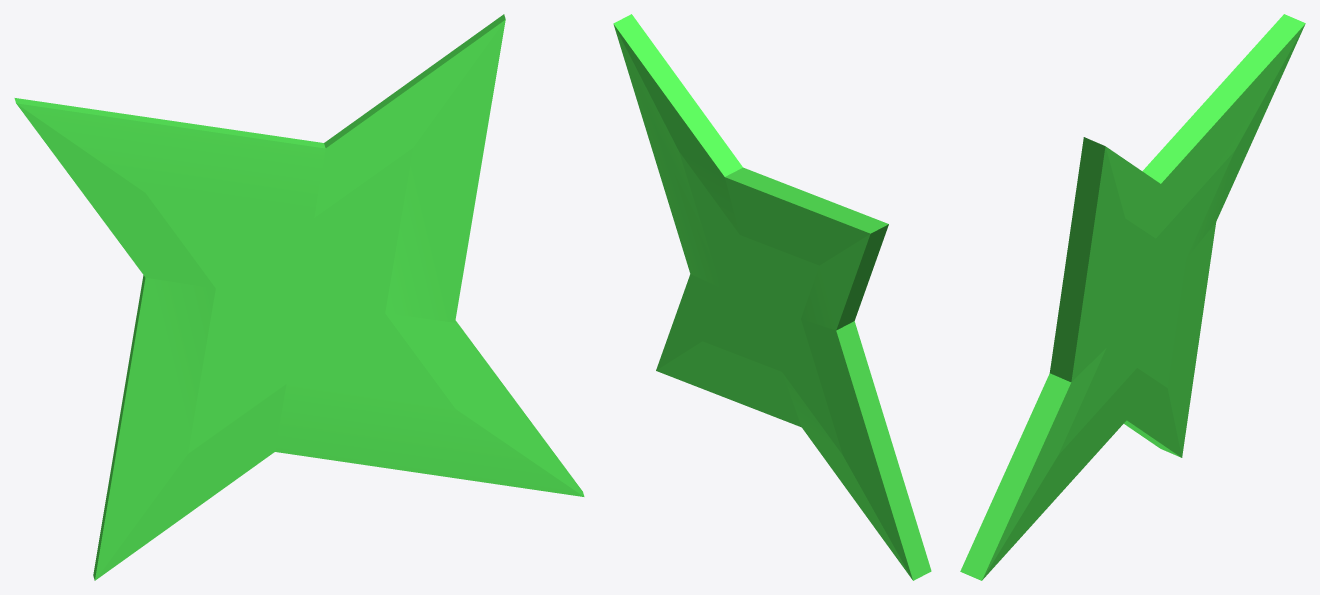
Rendered from new_shuriken.fbx.
3 views of the same model, side by side, from view 1: azimuth 30°, elevation 25°; view 2: azimuth 150°, elevation 25°; view 3: azimuth 270°, elevation 25° (orthographic). The views are drawn at different scales.
Visible parts, largest first — view 1: ShurikenHUD; view 2: ShurikenHUD; view 3: ShurikenHUD.
Boxes of the visible parts, x1,y1,x2,y2 form: ShurikenHUD: (14,14,584,580); ShurikenHUD: (613,14,931,580); ShurikenHUD: (960,14,1305,580).
Size of the model in its own units: 3033 by 3540 by 2241.
